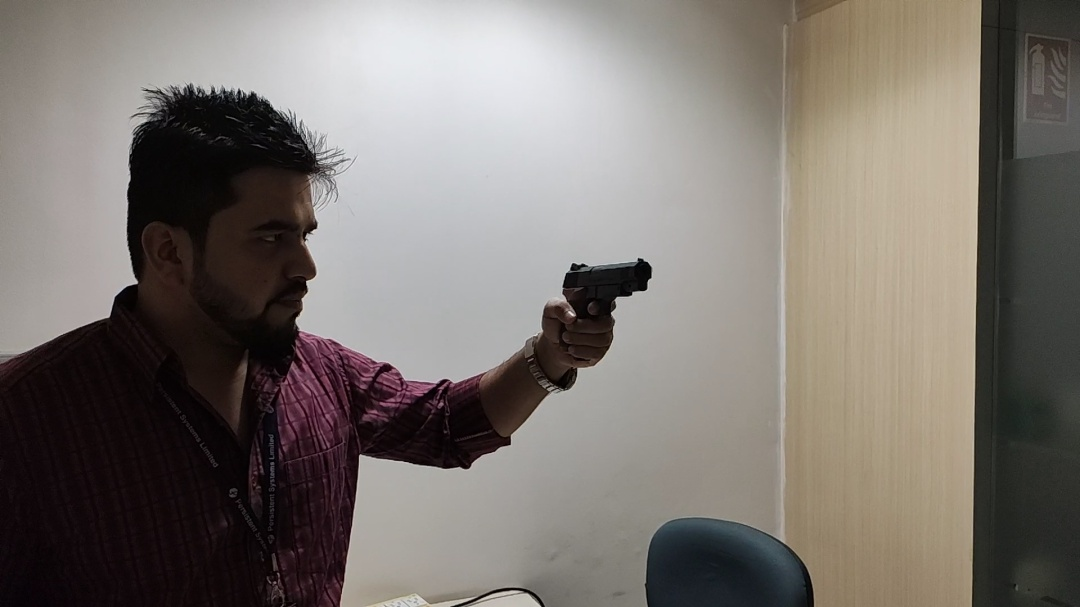gun: (561, 253, 654, 372)
